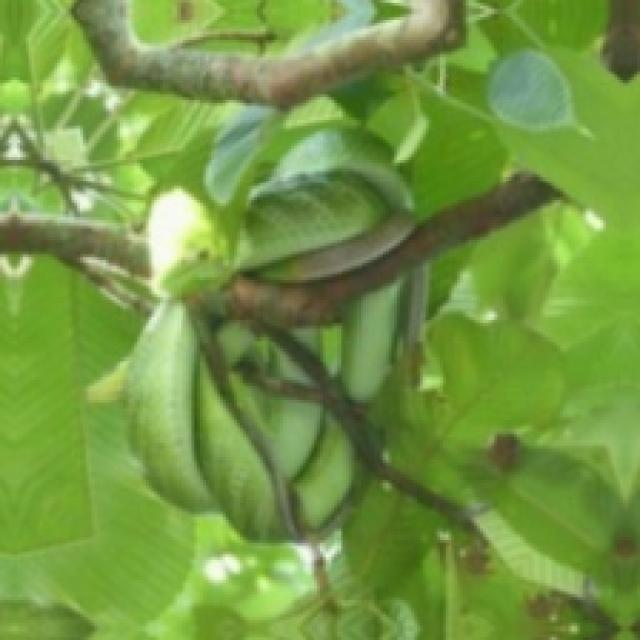red-tailed green ratsnake: (125, 299, 354, 539), (235, 129, 415, 280), (310, 281, 401, 401), (216, 321, 304, 382)
